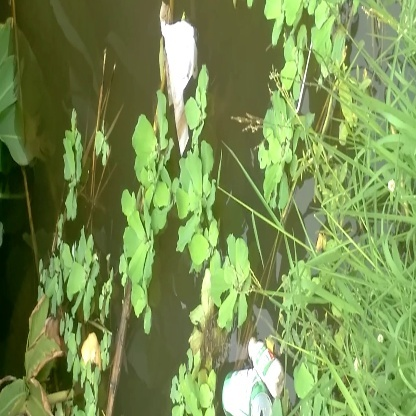bottle: (245, 335, 300, 397)
